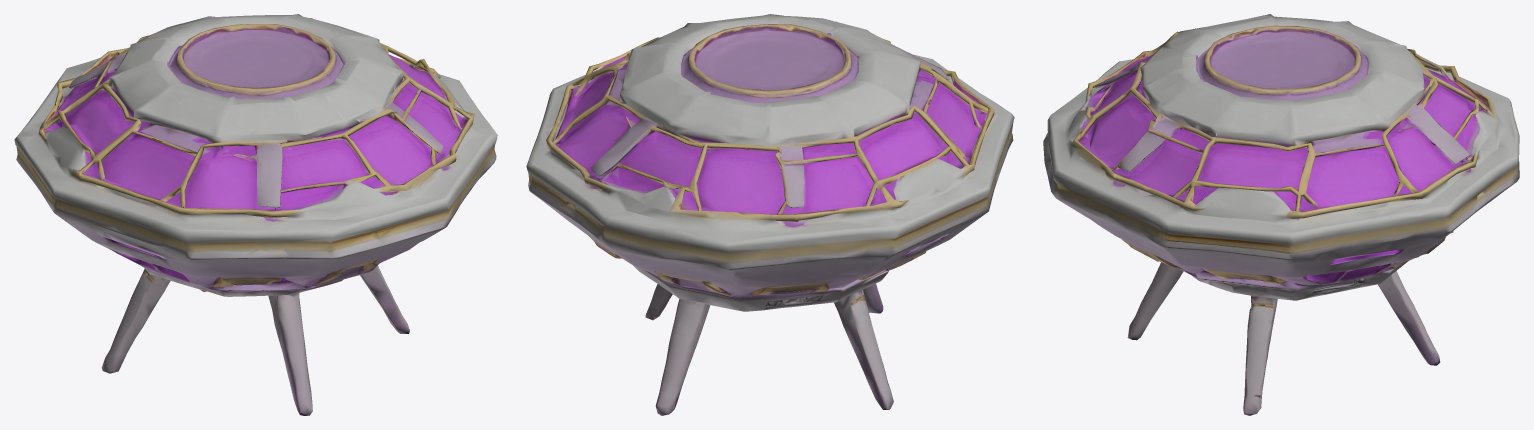
The model's file is venus_module.glb.
3 views of the same model, side by side, from view 1: azimuth 30°, elevation 25°; view 2: azimuth 150°, elevation 25°; view 3: azimuth 270°, elevation 25° (orthographic). The views are drawn at different scales.
Parts seen in each view (by area): view 1: tripo_node_0268ce88-5e2a-4d84-80fb-c1368a225508; view 2: tripo_node_0268ce88-5e2a-4d84-80fb-c1368a225508; view 3: tripo_node_0268ce88-5e2a-4d84-80fb-c1368a225508.
Part boxes in pixels (x1,y1,x2,y2): tripo_node_0268ce88-5e2a-4d84-80fb-c1368a225508: (14, 14, 497, 415); tripo_node_0268ce88-5e2a-4d84-80fb-c1368a225508: (526, 14, 1014, 415); tripo_node_0268ce88-5e2a-4d84-80fb-c1368a225508: (1043, 14, 1519, 415).
Size of the model in its own units: 0.9967 by 0.6798 by 1.
Materials: 1 (1 with a texture image).
